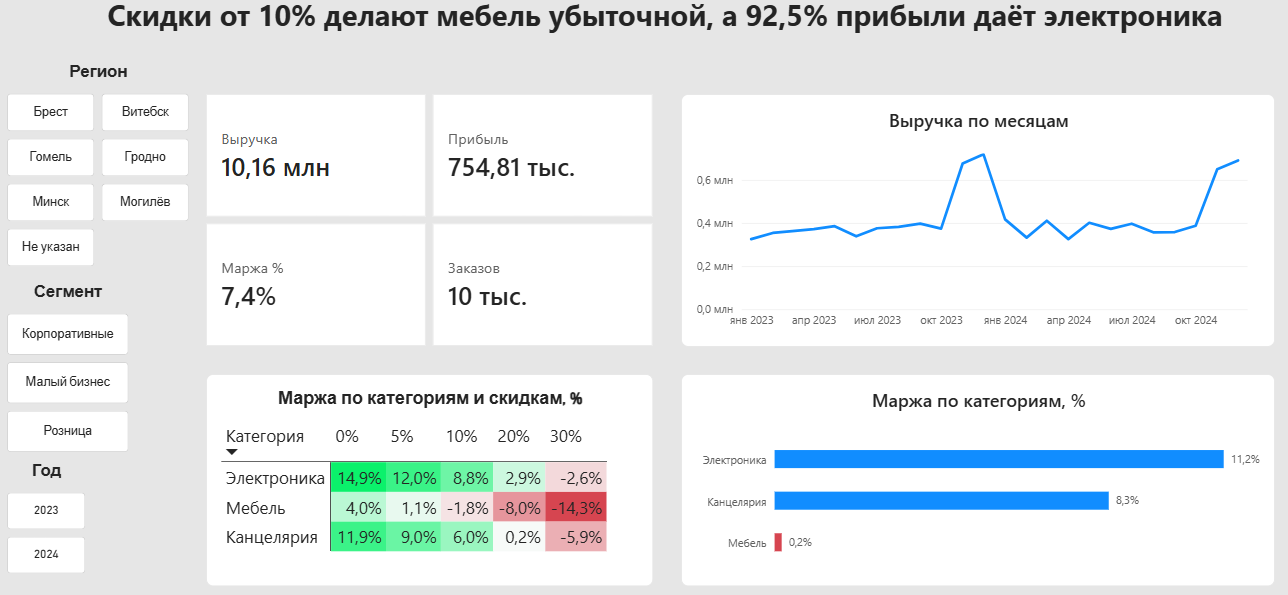

Layout of this report page (visuals, bound fields, positions):
{"tool":"powerbi","page":{"name":"Страница 1","canvas":[1920,1080],"ordinal":0},"visuals":[{"type":"cardVisual","fields":{"Data":["public orders.Выручка","public orders.Прибыль","public orders.Маржа %","public orders.Заказов"]},"box":[232.2,111.1,496.7,281.1],"z":0},{"type":"lineChart","title":"Выручка по месяцам","fields":{"Category":["public orders.Месяц"],"Y":["public orders.Выручка"]},"box":[760,111.1,660,281.1],"z":1000},{"type":"clusteredBarChart","title":"Маржа по категориям, %","fields":{"Category":["public orders.category"],"Y":["public orders.Маржа %"]},"box":[760,422.2,660,235.6],"z":2000},{"type":"pivotTable","title":"Маржа по категориям и скидкам, %","fields":{"Columns":["public orders.discount"],"Rows":["public orders.category"],"Values":["public orders.Маржа %"]},"box":[232.2,422.2,496.7,235.6],"z":3000},{"type":"advancedSlicerVisual","title":"Регион","fields":{"Values":["public orders.region"]},"box":[11.1,75.6,203.3,228.9],"z":4000},{"type":"advancedSlicerVisual","title":"Сегмент","fields":{"Values":["public orders.segment"]},"box":[11.1,320,135.6,190],"z":5000},{"type":"advancedSlicerVisual","fields":{"Values":["public orders.Год"]},"box":[11.1,518.9,87.8,174.4],"z":6000},{"type":"textbox","box":[0,0,1484.4,66.7],"z":6001}]}

Visuals, with their boxes on the page's 1920x1080 design canvas (x1, y1, x2, y2). These are canvas units, not pixel positions in the 1288x595 screenshot, which may show the page scaled, cropped or inside an application window:
cardVisual - public orders.Выручка x public orders.Прибыль: x1=232, y1=111, x2=729, y2=392
"Выручка по месяцам" lineChart: x1=760, y1=111, x2=1420, y2=392
"Маржа по категориям, %" clusteredBarChart: x1=760, y1=422, x2=1420, y2=658
"Маржа по категориям и скидкам, %" pivotTable: x1=232, y1=422, x2=729, y2=658
"Регион" advancedSlicerVisual: x1=11, y1=76, x2=214, y2=304
"Сегмент" advancedSlicerVisual: x1=11, y1=320, x2=147, y2=510
advancedSlicerVisual - public orders.Год: x1=11, y1=519, x2=99, y2=693
textbox: x1=0, y1=0, x2=1484, y2=67
